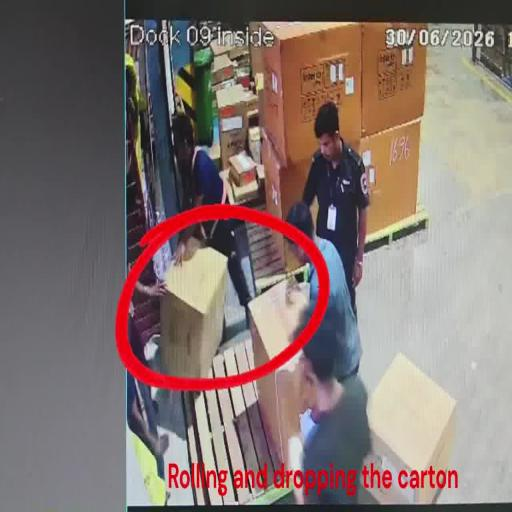carton: (261, 21, 362, 172), (365, 351, 457, 504), (248, 278, 312, 459), (158, 246, 230, 380), (260, 133, 316, 271), (362, 24, 427, 139), (360, 118, 422, 238), (218, 83, 248, 170), (228, 168, 266, 210), (230, 150, 258, 188)
forklift: (123, 18, 216, 436)
pallet: (178, 334, 296, 506), (233, 214, 287, 284), (364, 209, 431, 260)
person: (276, 319, 375, 507), (302, 102, 370, 322), (282, 200, 362, 379), (173, 147, 256, 307), (126, 277, 170, 458)
